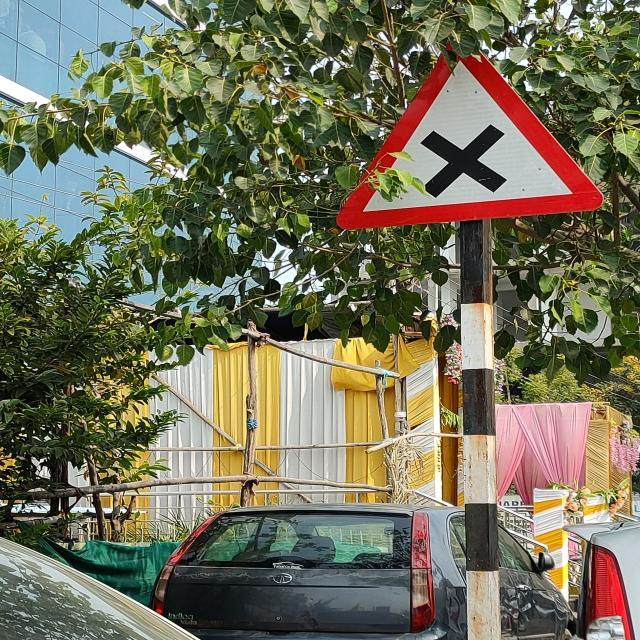cross road: (325, 24, 610, 217)
